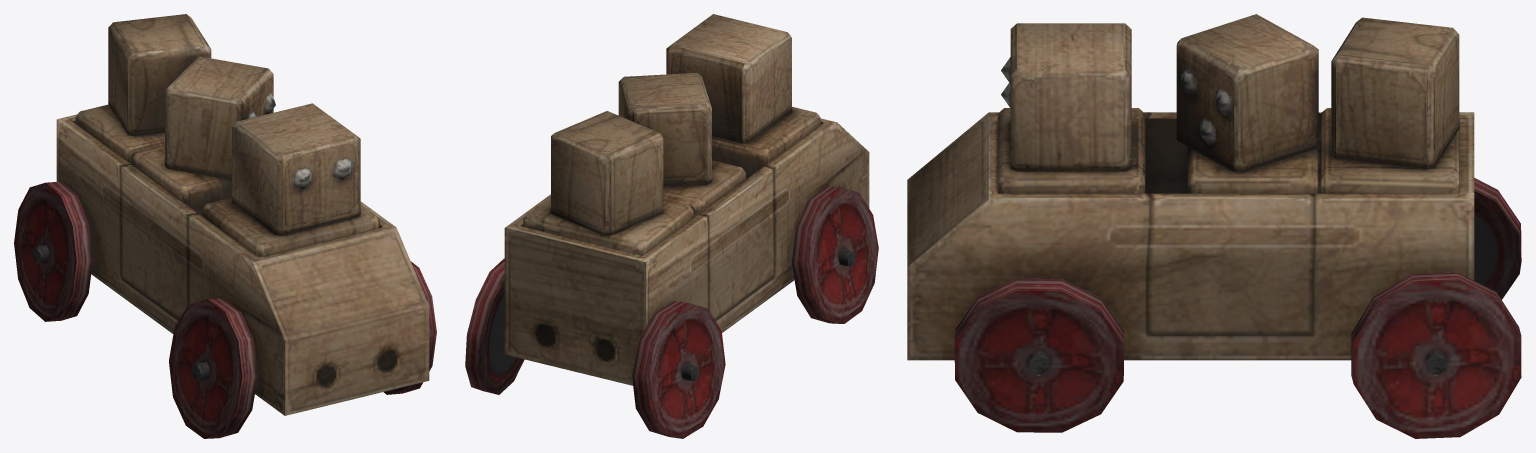
Rendered from toy_car.dae.
3 views of the same model, side by side, from view 1: azimuth 30°, elevation 25°; view 2: azimuth 150°, elevation 25°; view 3: azimuth 270°, elevation 25° (orthographic). The views are drawn at different scales.
Visible parts, largest first — view 1: toy_car; view 2: toy_car; view 3: toy_car.
Part boxes in pixels (<box>): toy_car: <box>14,14,436,438</box>; toy_car: <box>465,14,878,438</box>; toy_car: <box>907,14,1521,438</box>.
Size of the model in its own units: 0.1641 by 0.1959 by 0.3249.
